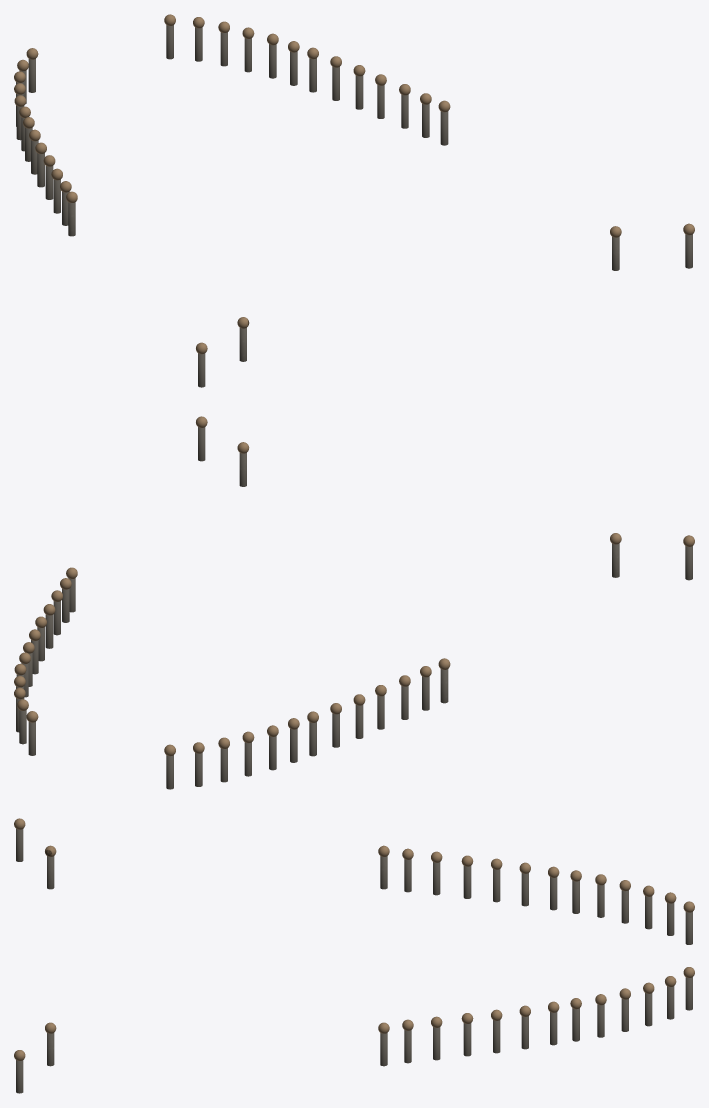
Rendered from newpinball_normal_pin.fbx.
3 renders of one model, top to bottom at view 1: azimuth 30°, elevation 25°; view 2: azimuth 150°, elevation 25°; view 3: azimuth 270°, elevation 25°, orthographic. The views are drawn at different scales.
Parts seen in each view (by area): view 1: normal_pin.020; view 2: normal_pin.020; view 3: normal_pin.020.
Part boxes in pixels (box(x1,y1,x2,y2)): normal_pin.020: box(14, 14, 694, 387); normal_pin.020: box(14, 416, 694, 789); normal_pin.020: box(14, 818, 694, 1093).
Bounding box in the file's own units: 135 × 11.07 × 164.
